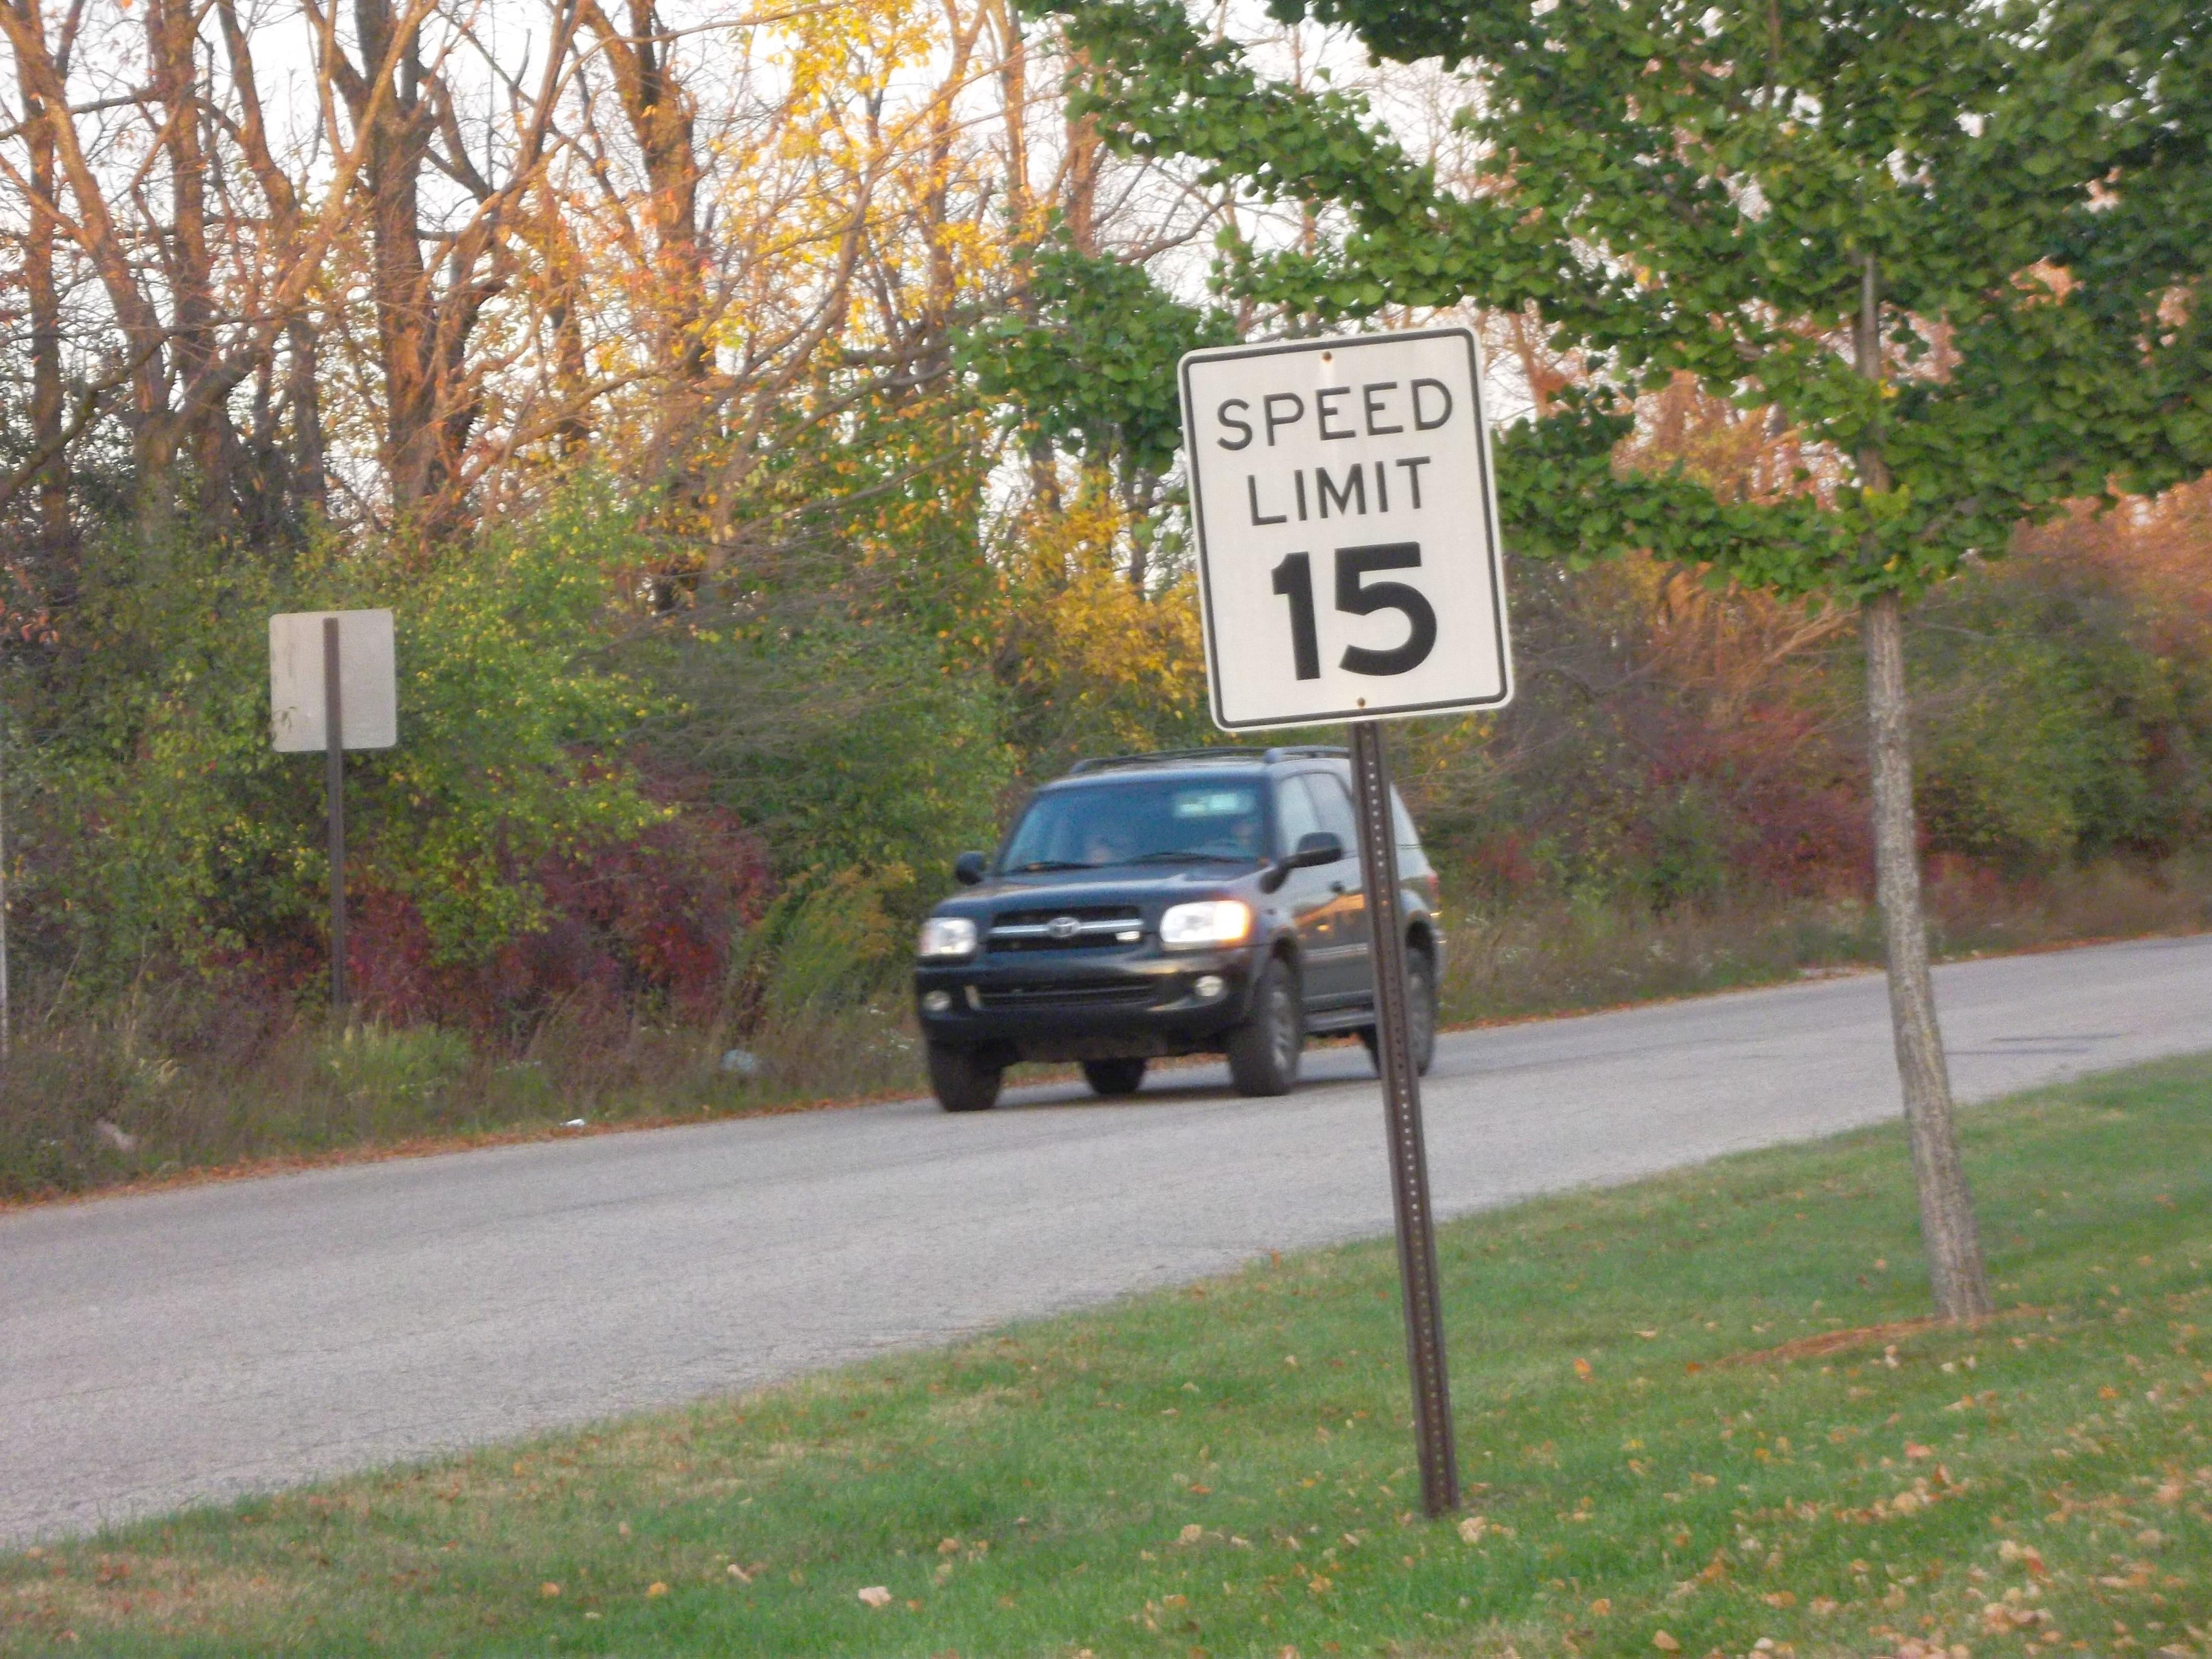regulatory: (1169, 314, 1534, 756)
